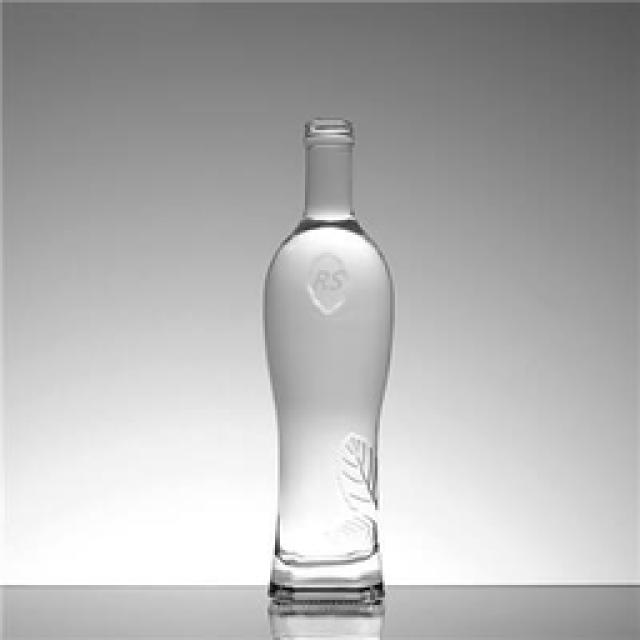glass_beverage_bottles: (255, 115, 393, 612)
